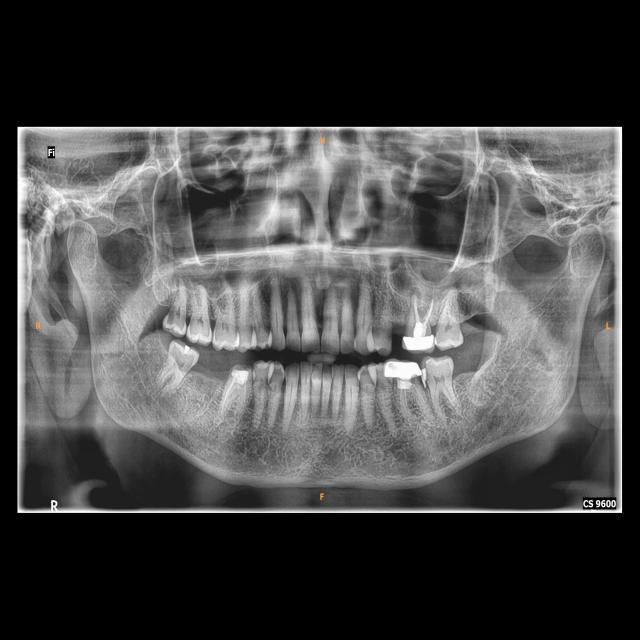dentin-curugu: (164, 300, 183, 328)
dolgu: (224, 366, 251, 390)
kanal-tedavisi: (410, 293, 437, 334), (392, 378, 416, 416), (221, 378, 240, 416)
kaplama: (384, 357, 424, 383), (399, 330, 435, 353)
